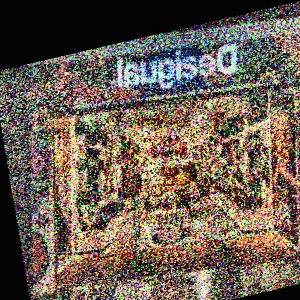desigual: (184, 6, 299, 42)
